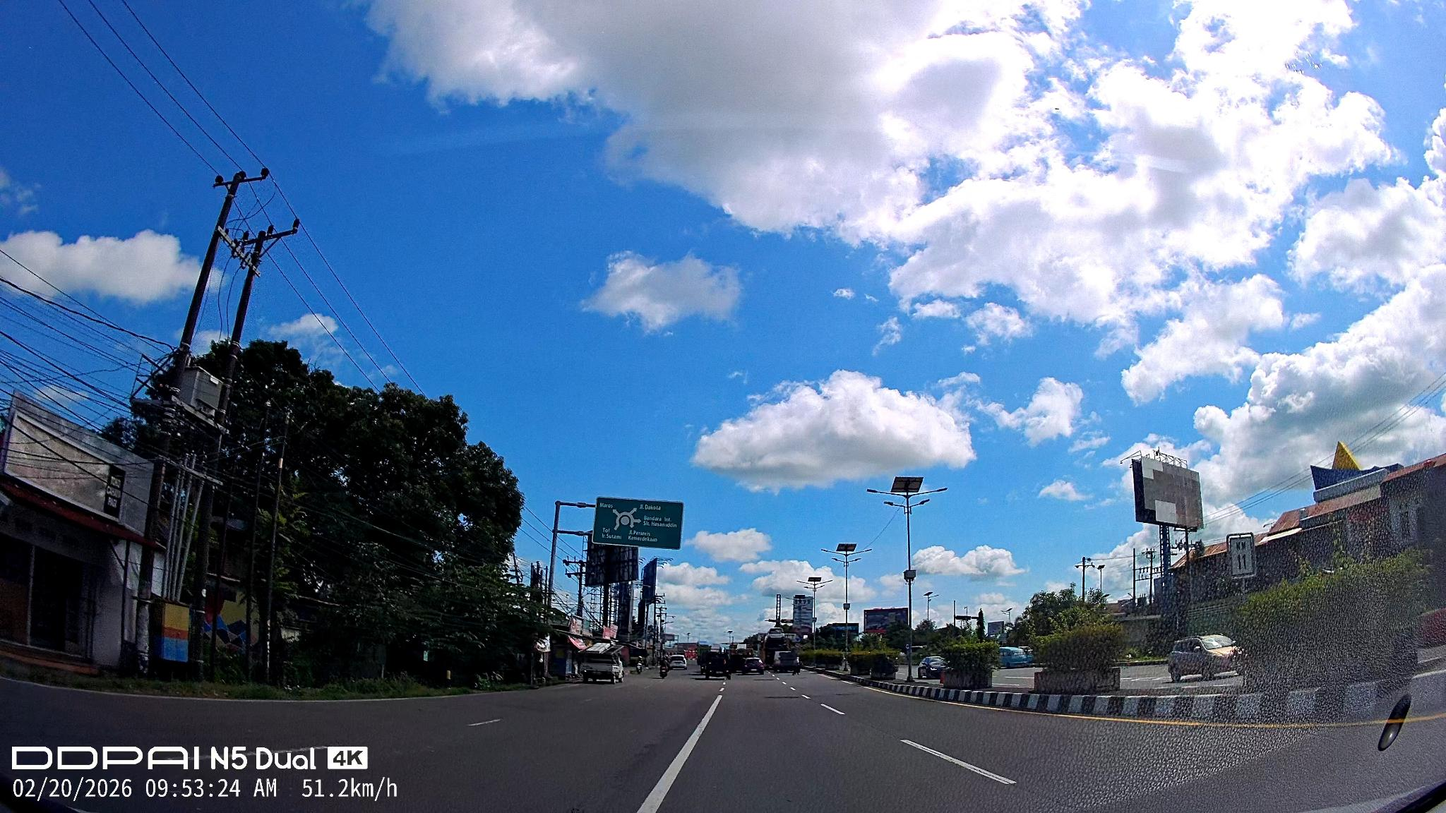rambu_teks: (592, 496, 684, 551)
